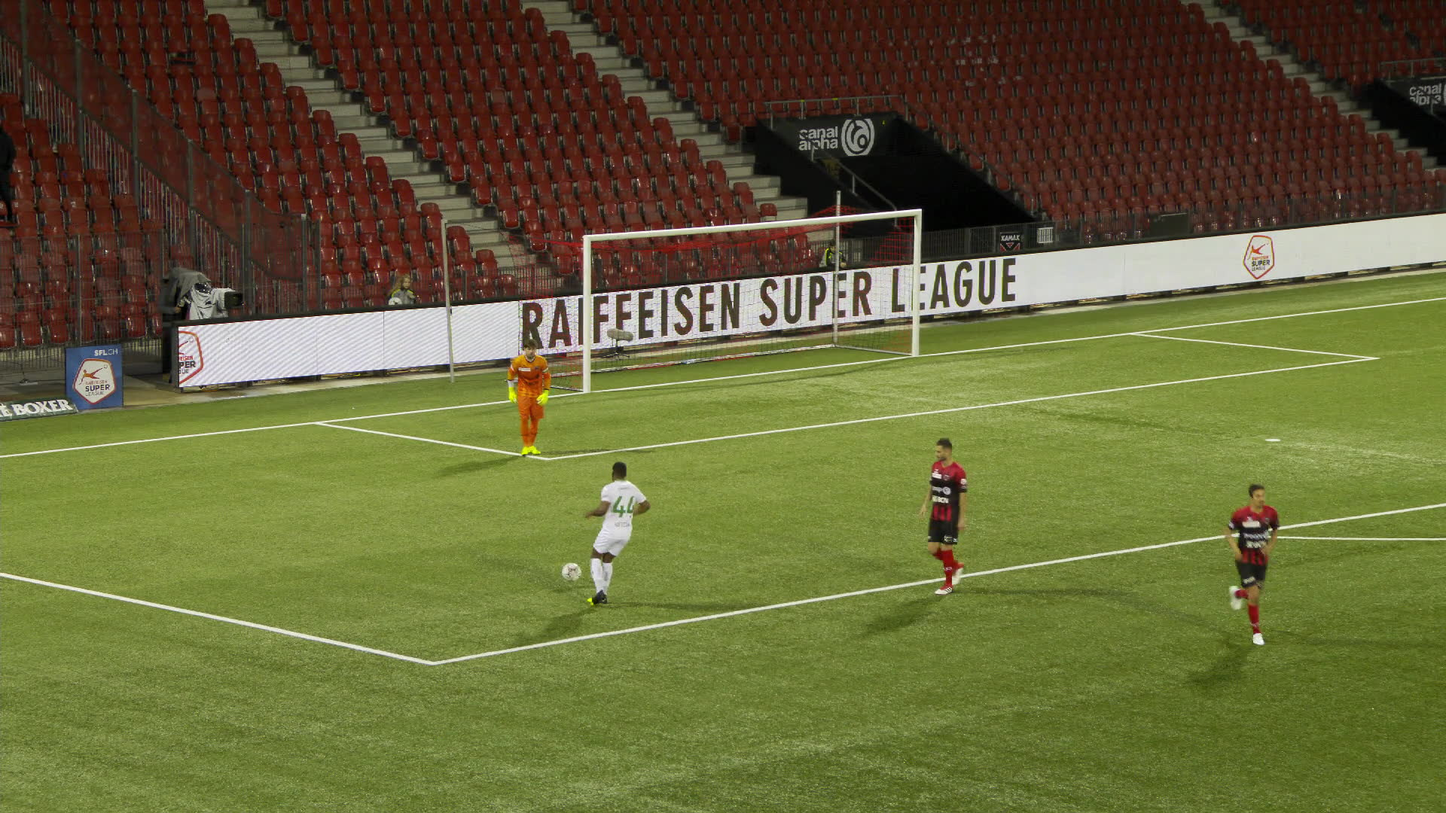ball: (563, 565, 581, 582)
player: (583, 459, 648, 606), (1219, 480, 1277, 644), (917, 437, 973, 595), (507, 340, 551, 455)
